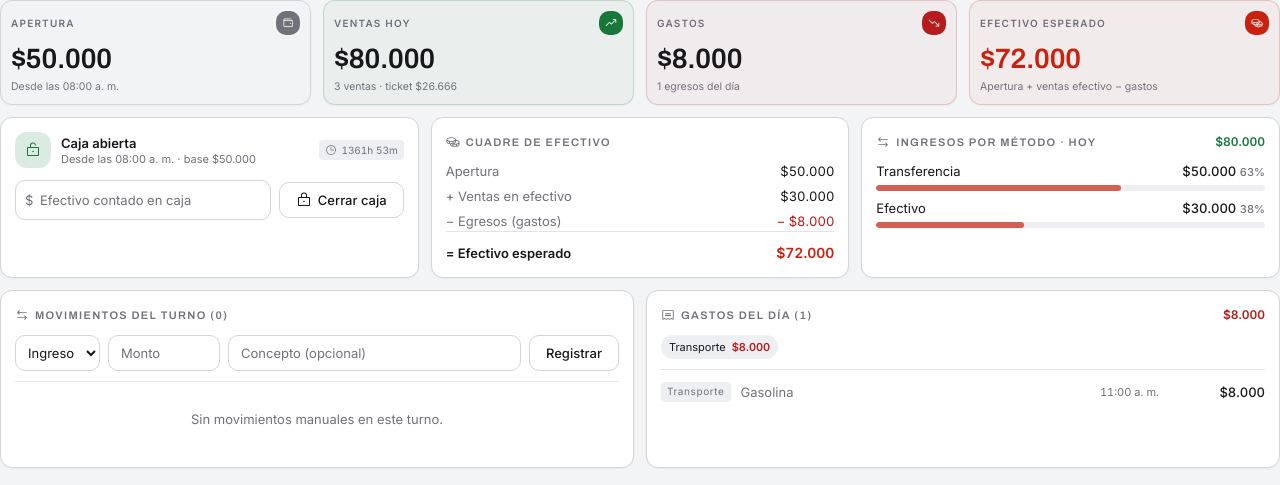
Scenario: TabCaja — cuadre en un clic (F5) › con faltante NO ofrece el atajo (solo el cierre normal con su diferencia)
Expected: the text "Caja abierta" is shown, [61,135,136,151]
Type "70000" into the number field named "Saldo contado" at (143, 200), box [15,180,271,220]
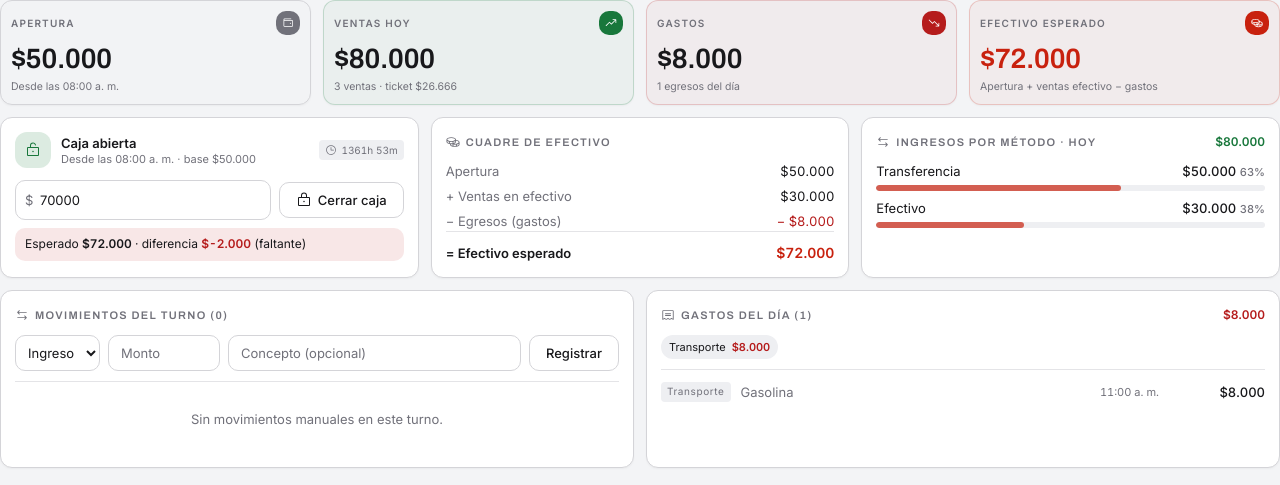
Expected: the text "Esperado $72.000 · diferencia $-2.000 (faltante)" is shown, [15,228,404,261]
